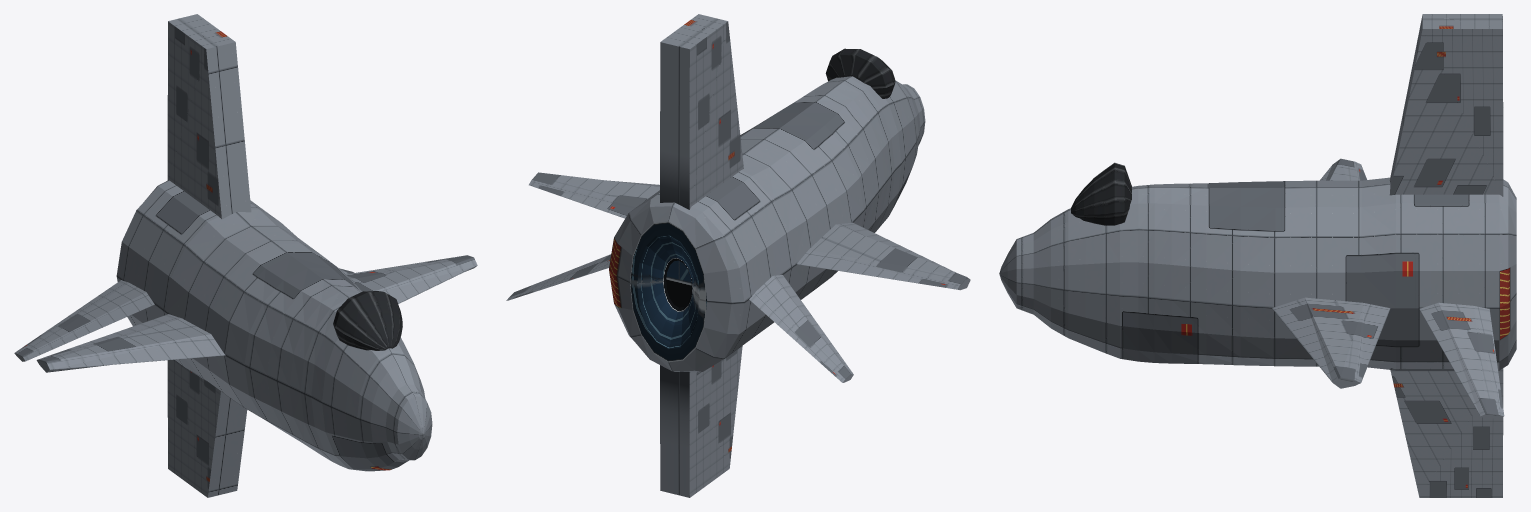
File: PFL_X15_Hypersonic.obj
3 views of the same model, side by side, from view 1: azimuth 30°, elevation 25°; view 2: azimuth 150°, elevation 25°; view 3: azimuth 270°, elevation 25° (orthographic). The views are drawn at different scales.
Visible parts, largest first — view 1: PFL_X15_Hypersonic; view 2: PFL_X15_Hypersonic; view 3: PFL_X15_Hypersonic.
Part boxes in pixels (x1,y1,x2,y2): PFL_X15_Hypersonic: (14, 14, 477, 497); PFL_X15_Hypersonic: (506, 14, 970, 497); PFL_X15_Hypersonic: (999, 14, 1516, 497).
Size of the model in its own units: 1 by 1 by 1.
Materials: 1 (1 with a texture image).
